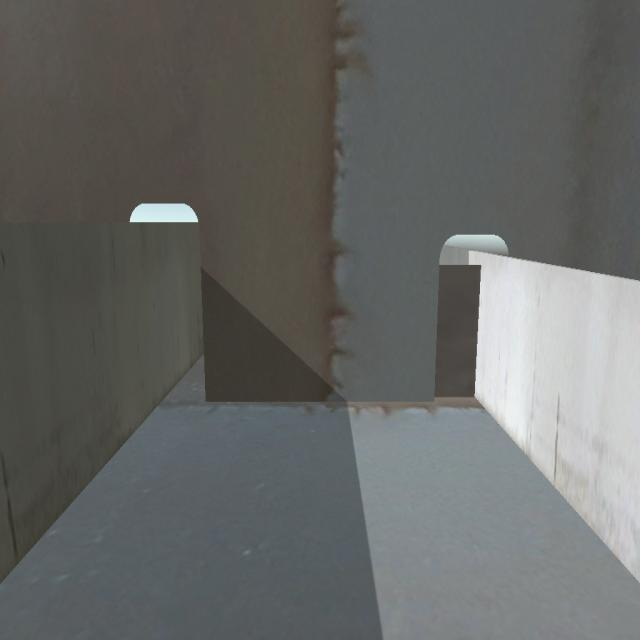fillet_yong_jeop_jang: (203, 391, 477, 399)
longi_yong_jeop_jang: (475, 257, 488, 403)
plate_behind: (440, 264, 481, 402)
